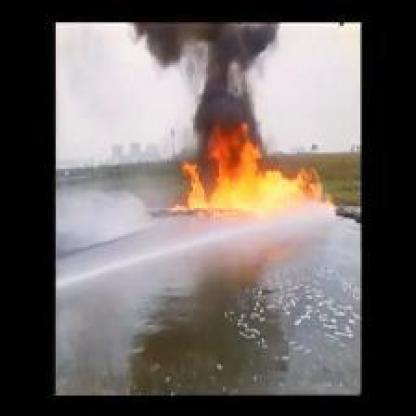fire: (174, 127, 328, 213)
smoke: (122, 21, 292, 143)
